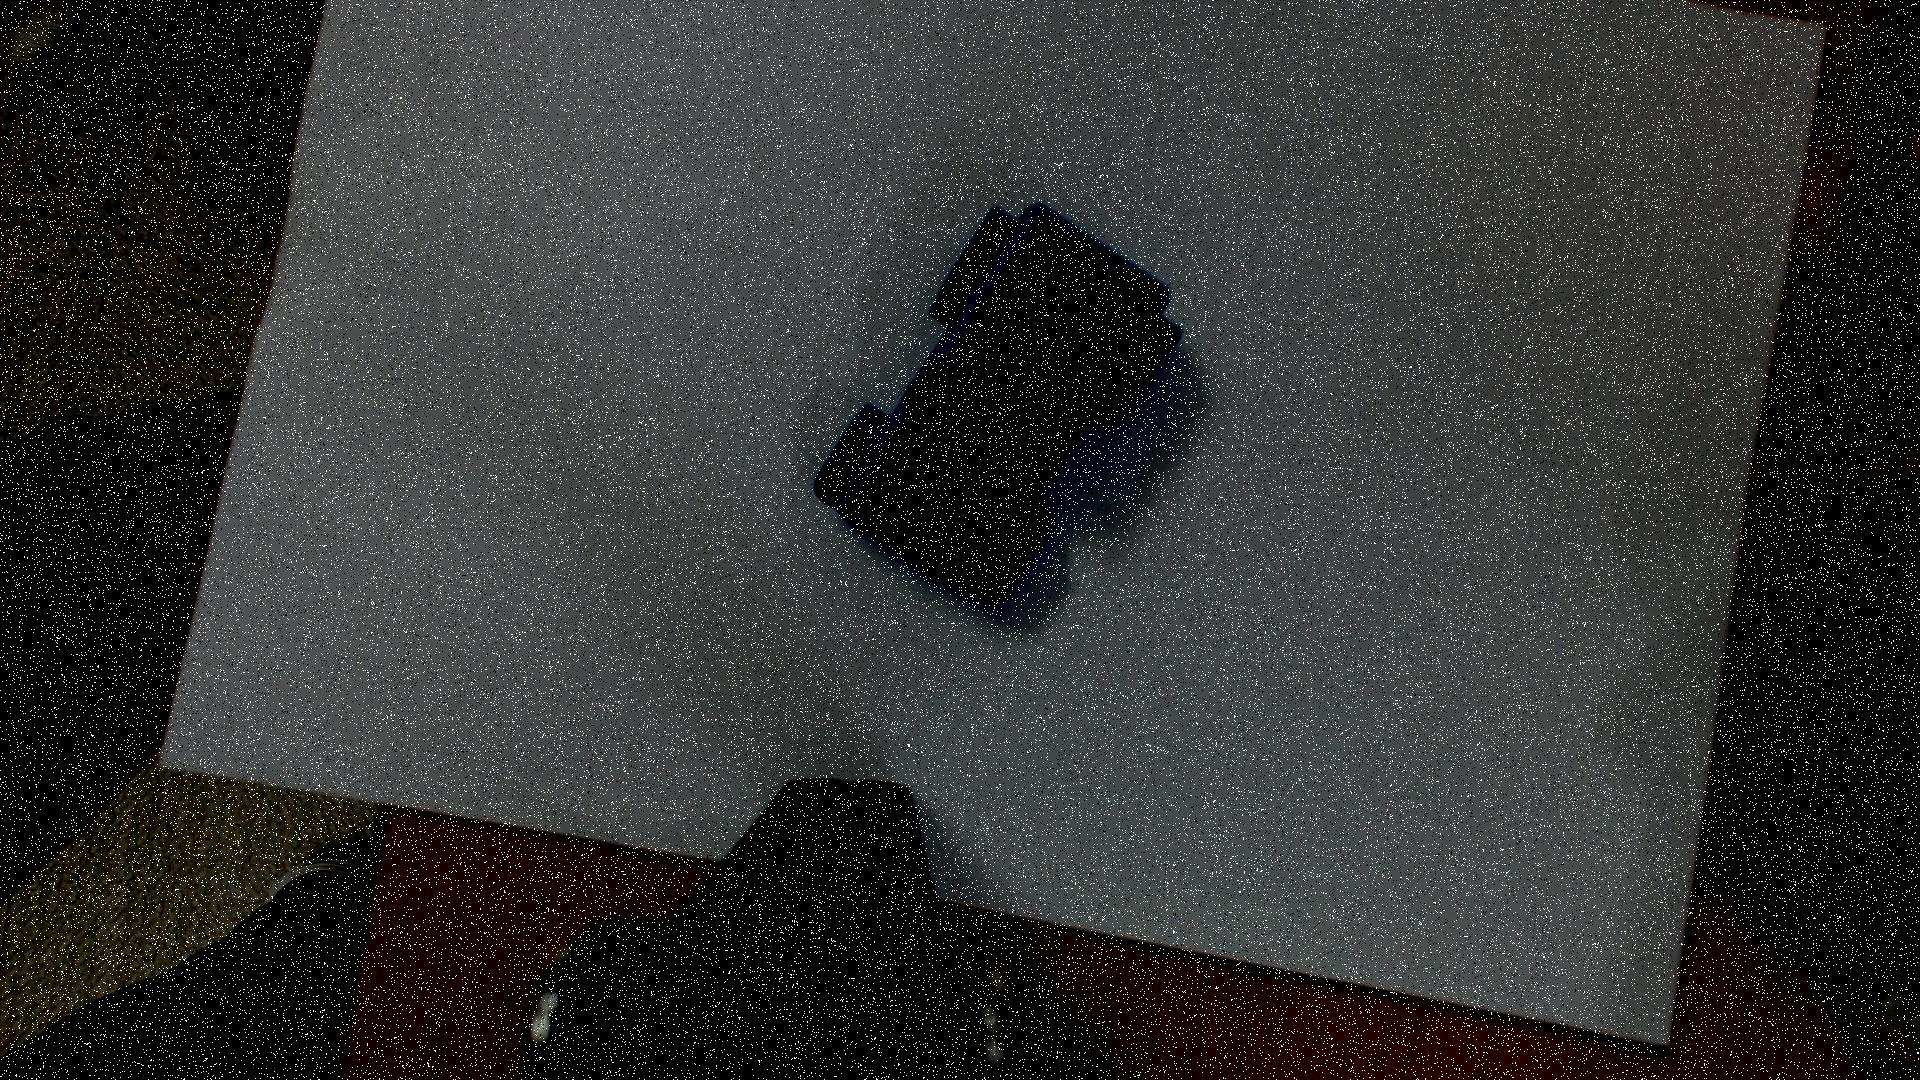Upper_ng: (815, 204, 1179, 608)
